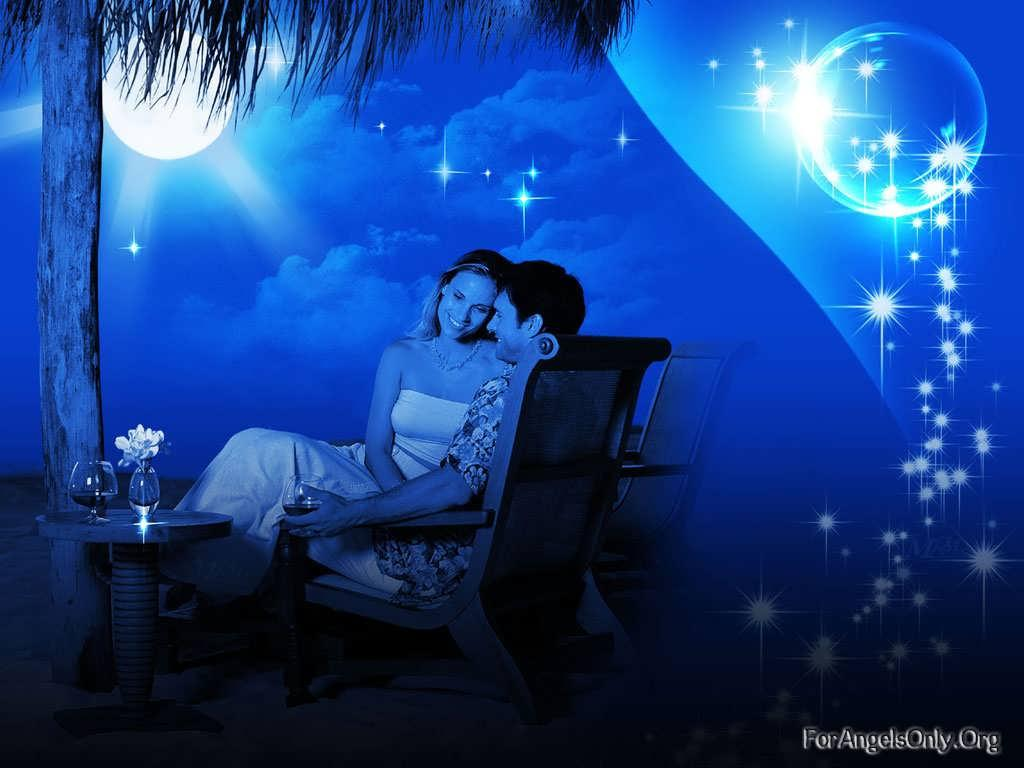face: (437, 267, 494, 338), (486, 288, 525, 358)
